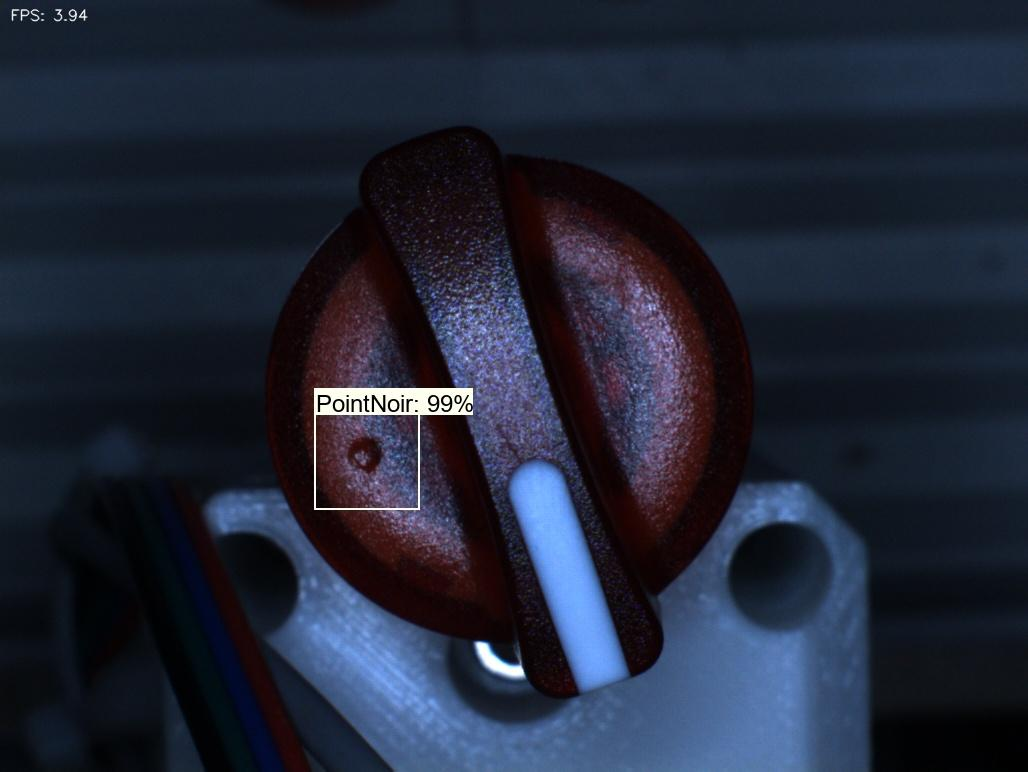Choc: (320, 419, 411, 497)
